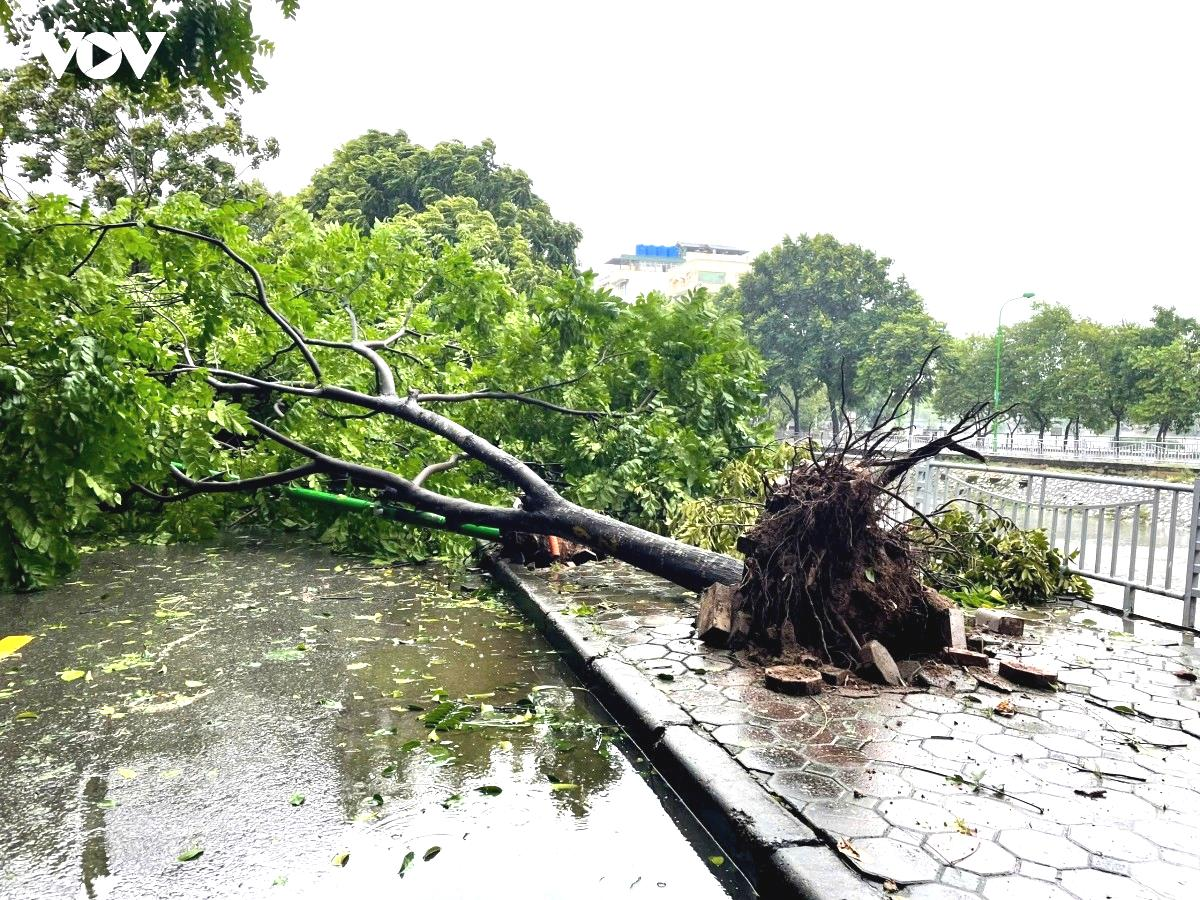ROAD_OBSTACLE: (156, 297, 1092, 819)
